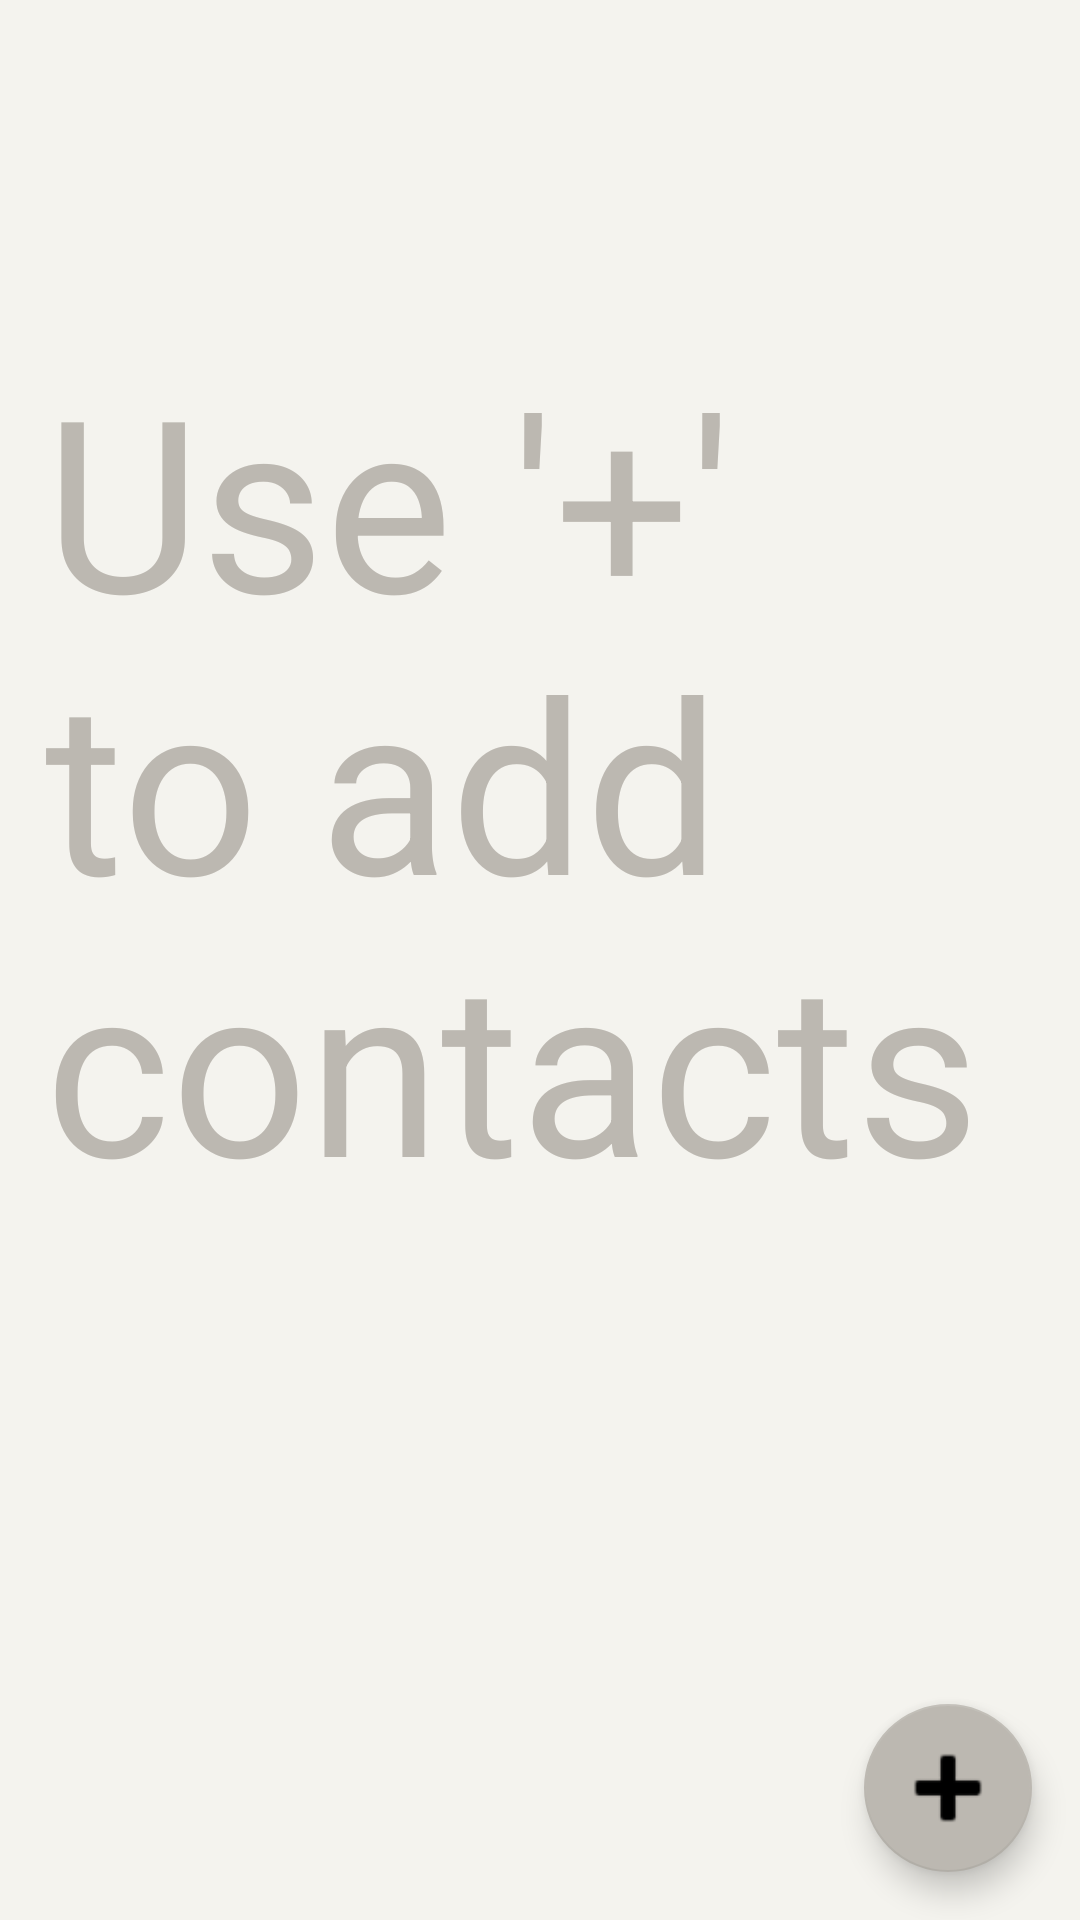

Icon bounding boxes for this 1080px x 1920px phone screenshot, format BBox(x1, y1, x2, y2):
Add Contact: BBox(864, 1704, 1032, 1872)
